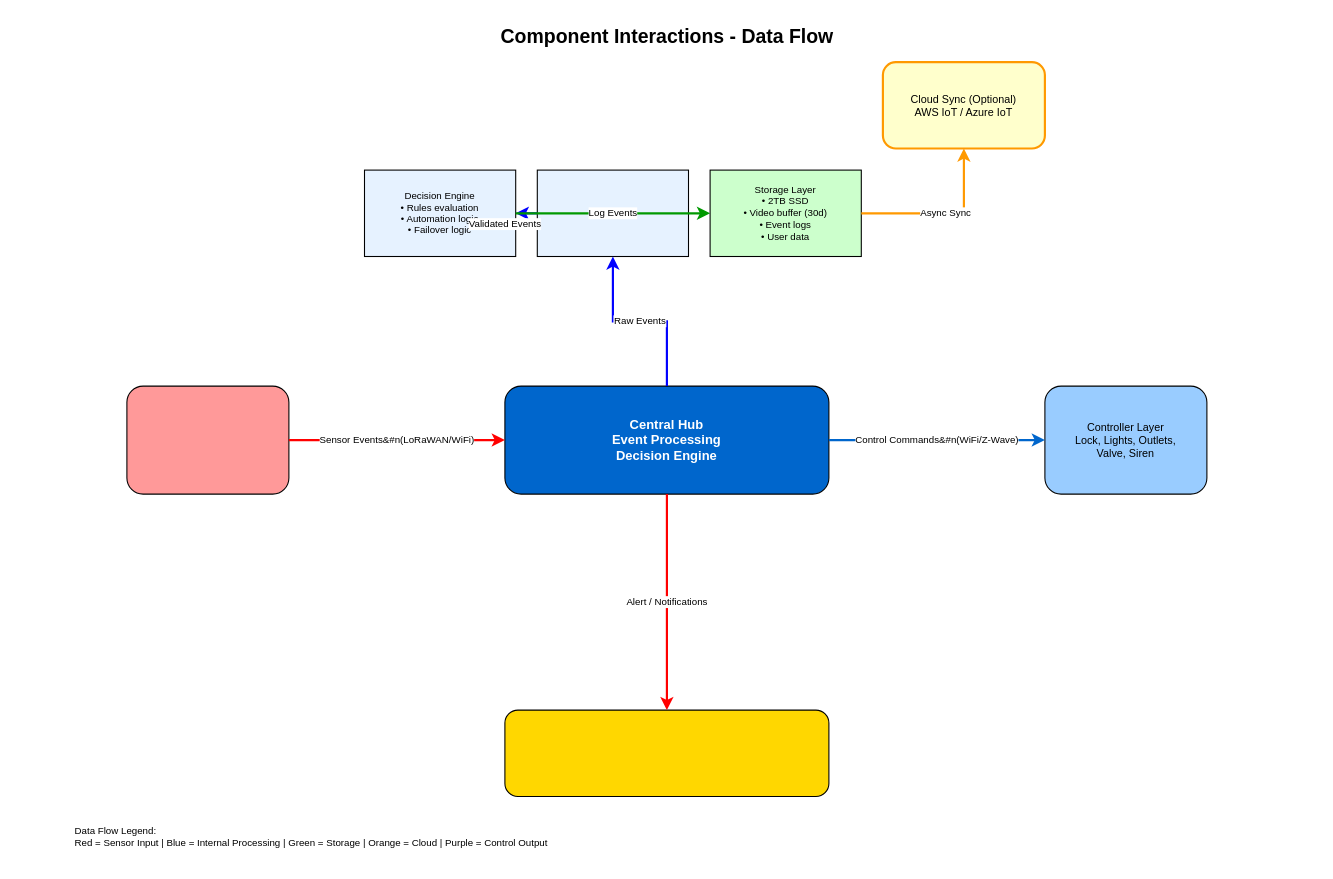
This 1333x879 diagram has some shape labels left out. Each missing label, with the centre of its shape:
"Event Processor • Validate events • Check thresholds • Rate limiting" belongs at point 612,212.
"Notification Layer Push, SMS, Email" belongs at point 666,752.
"Sensor Layer Motion, Door, Water, Cameras" belongs at point 207,439.
